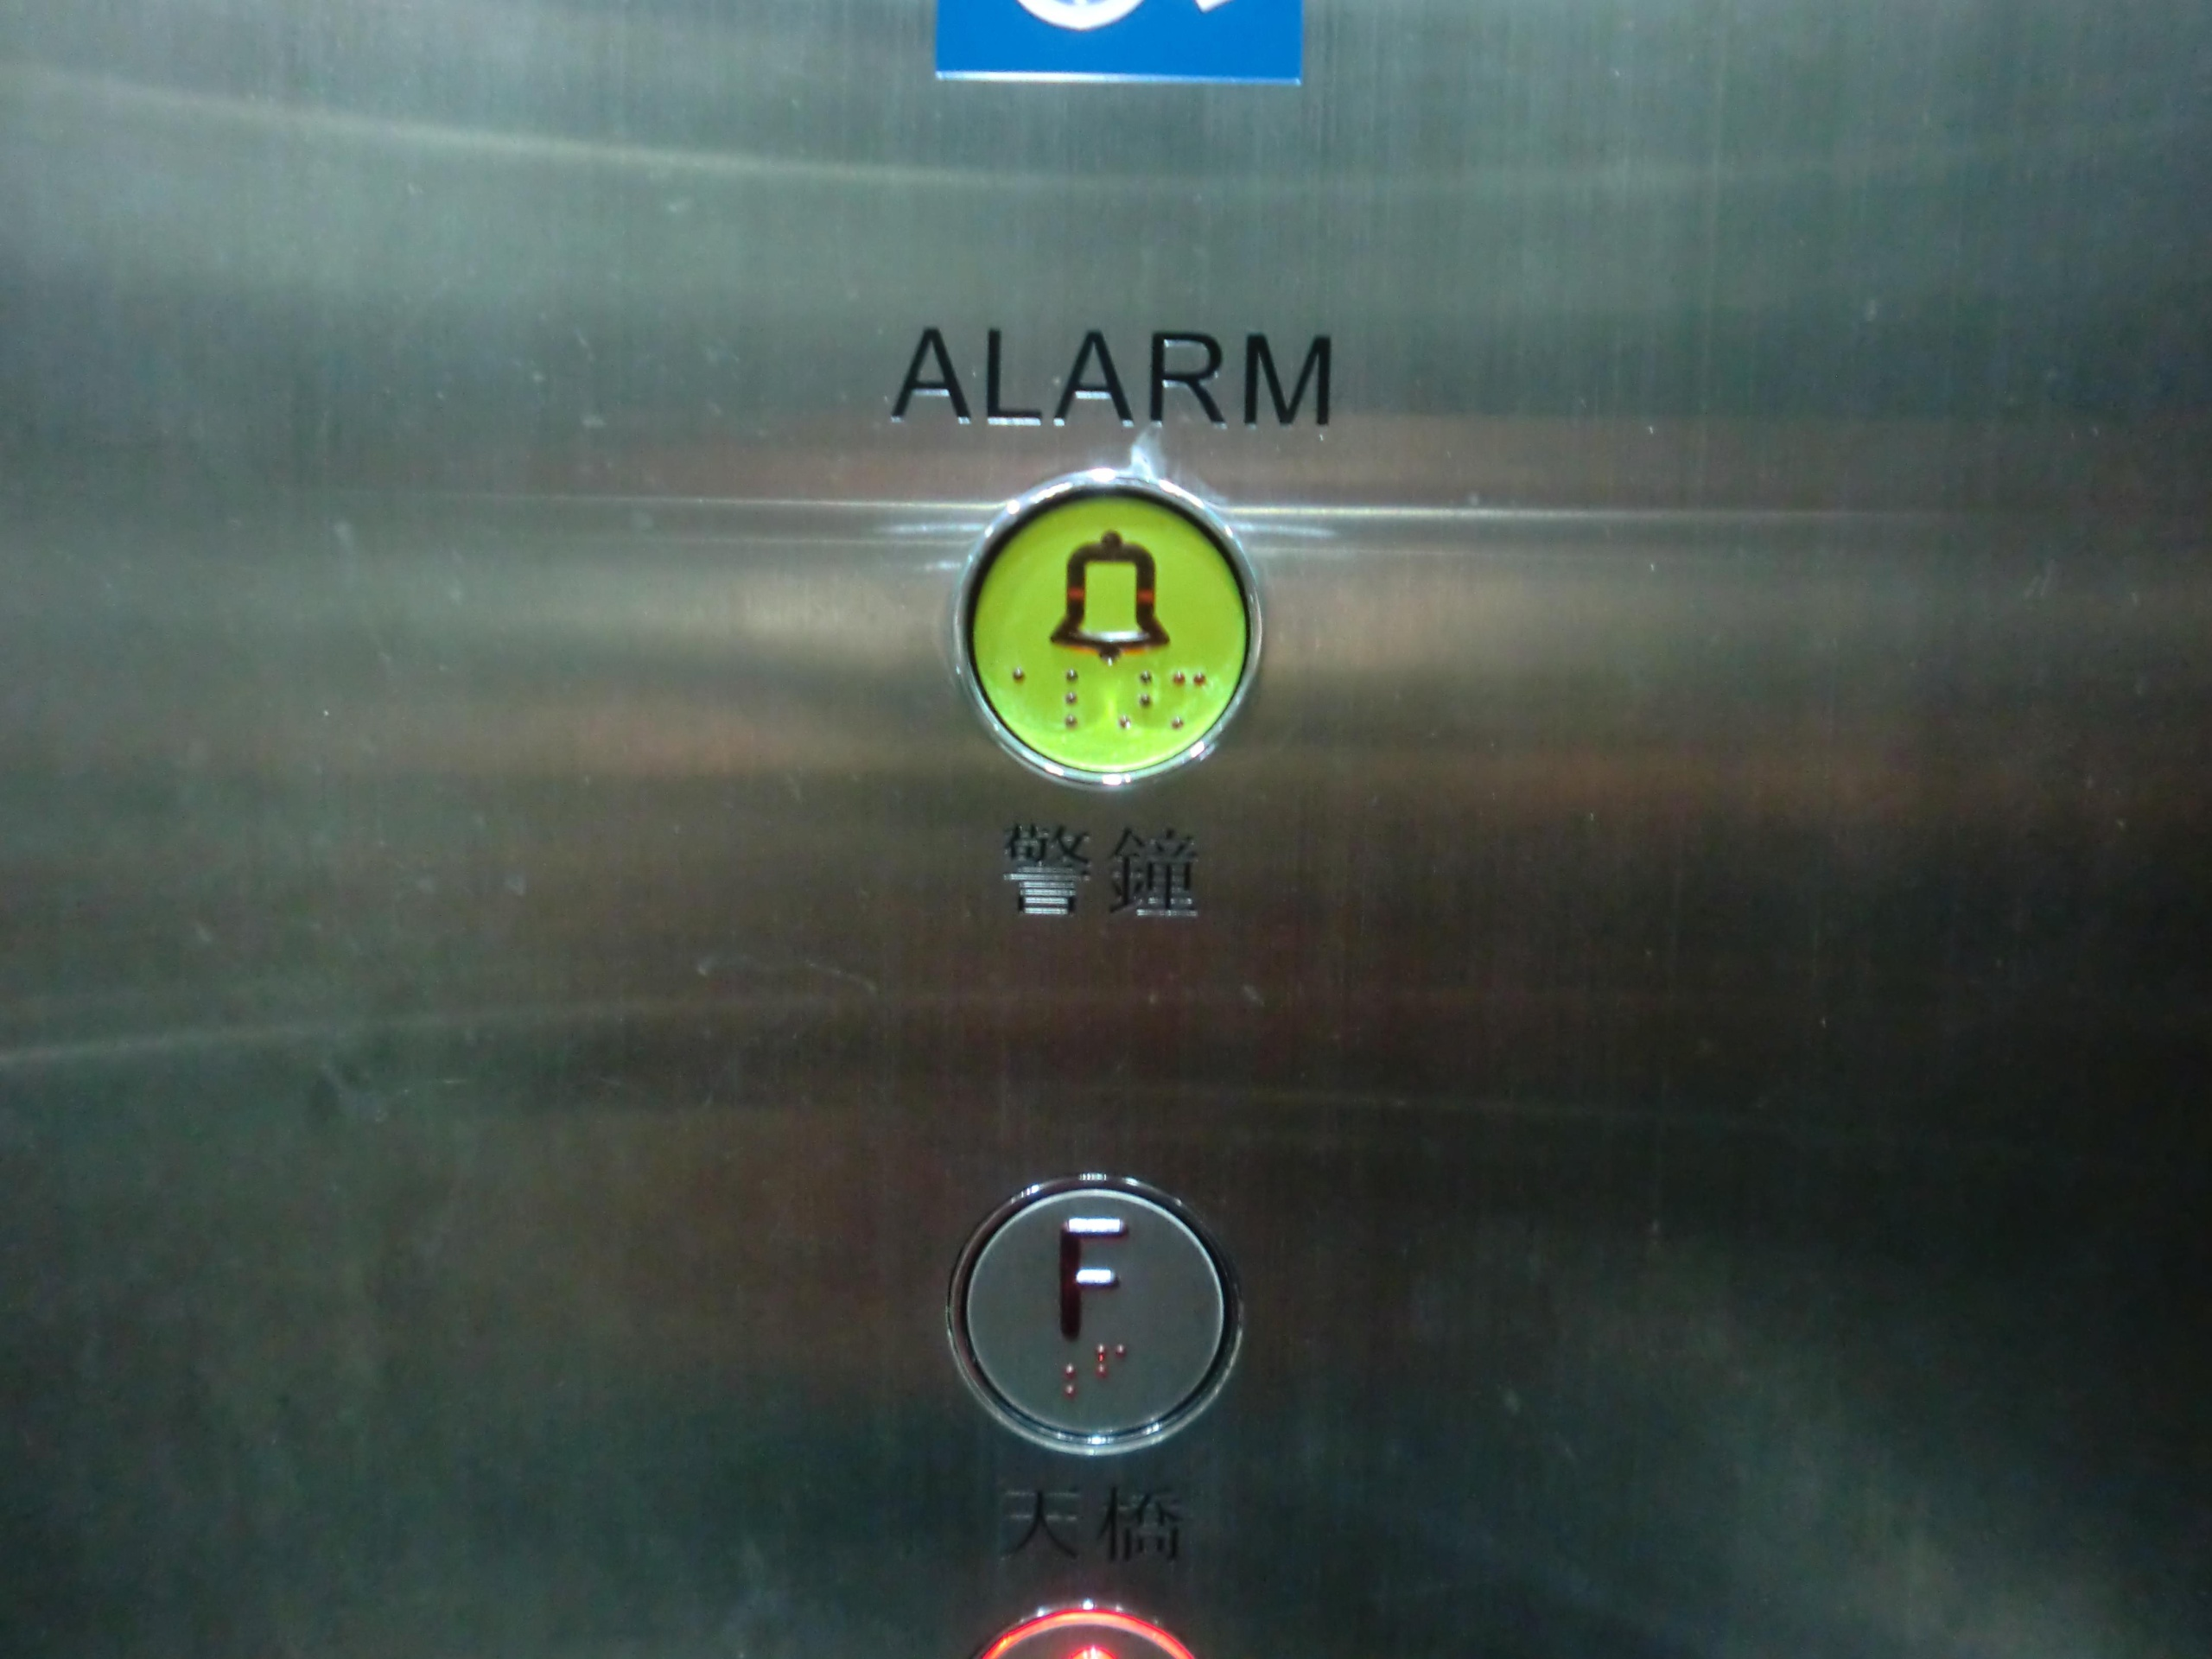F: (944, 1168, 1245, 1455)
alarm: (949, 469, 1271, 791)
